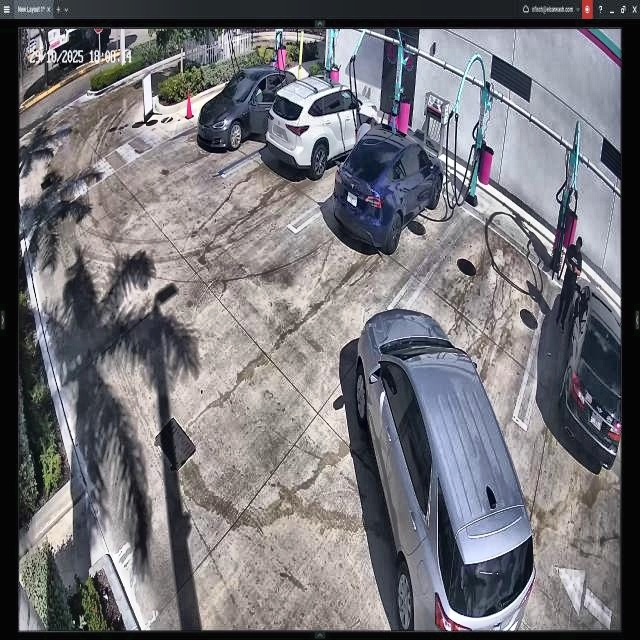Car: (356, 292, 528, 632), (330, 129, 442, 251), (266, 81, 378, 165), (194, 70, 298, 154)
